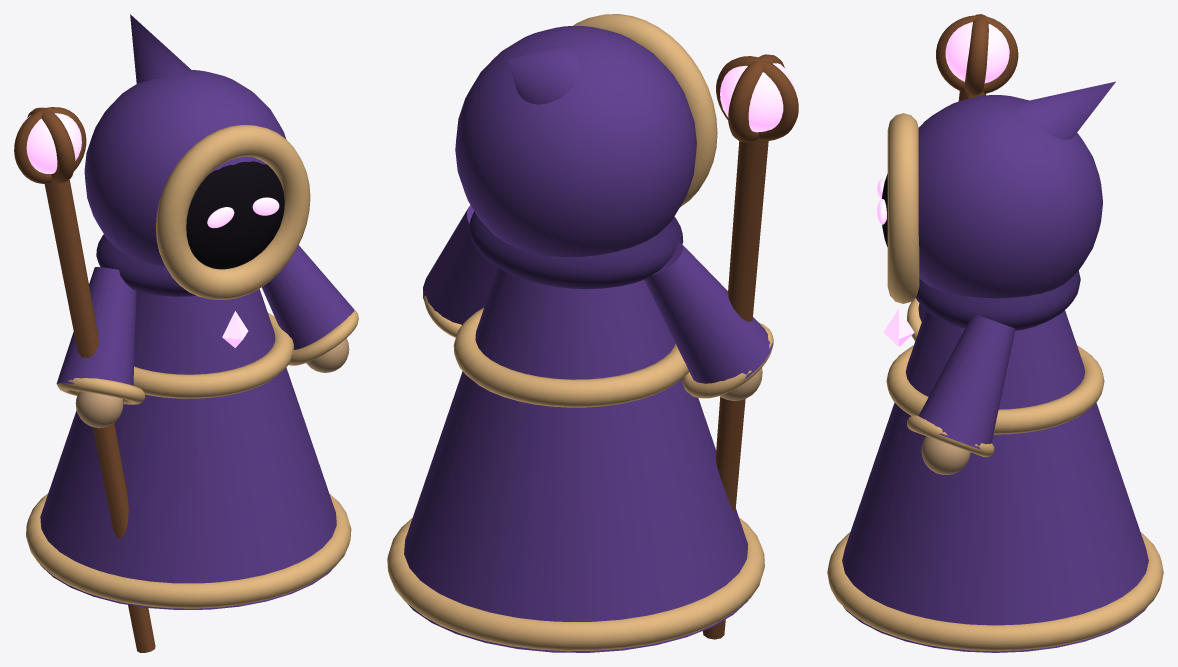
The model's file is HexMage.fbx.
3 renders of one model, left to right at view 1: azimuth 30°, elevation 25°; view 2: azimuth 150°, elevation 25°; view 3: azimuth 270°, elevation 25°, orthographic. The views are drawn at different scales.
Visible parts, largest first — view 1: Body, Head, Staff, Arm_R, Arm_L; view 2: Body, Head, Staff, Arm_R, Arm_L; view 3: Body, Head, Arm_L, Staff.
Part boxes in pixels (x1,y1,x2,y2): Body: (26,234,351,609); Head: (84,14,310,299); Staff: (14,107,155,652); Arm_R: (56,267,145,427); Arm_L: (262,245,358,372); Body: (387,211,764,652); Head: (455,14,717,257); Staff: (702,54,798,639); Arm_R: (644,242,773,400); Arm_L: (423,205,497,337); Body: (827,270,1163,652); Head: (877,81,1115,303); Arm_L: (907,314,1015,474); Staff: (936,14,1018,101).
Size of the model in its own units: 0.8711 by 1.39 by 0.75.
